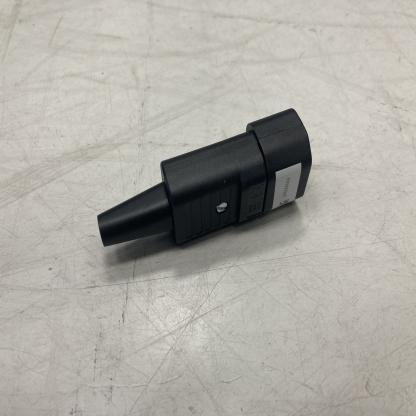SP0000004: (54, 62, 332, 298)
